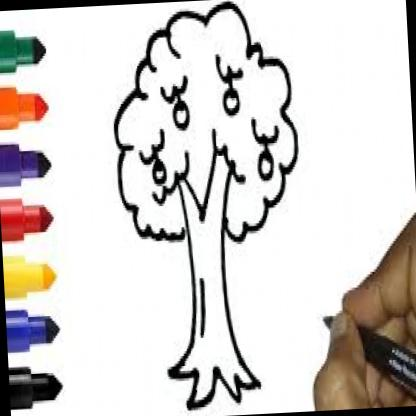apple: (166, 96, 194, 132), (219, 84, 244, 121), (254, 142, 275, 182), (150, 155, 170, 187)
branch_cut: (172, 144, 238, 224)
crown_cloud: (101, 0, 304, 246)
root_only: (161, 333, 264, 412)
trunk_bark: (184, 238, 233, 326)
